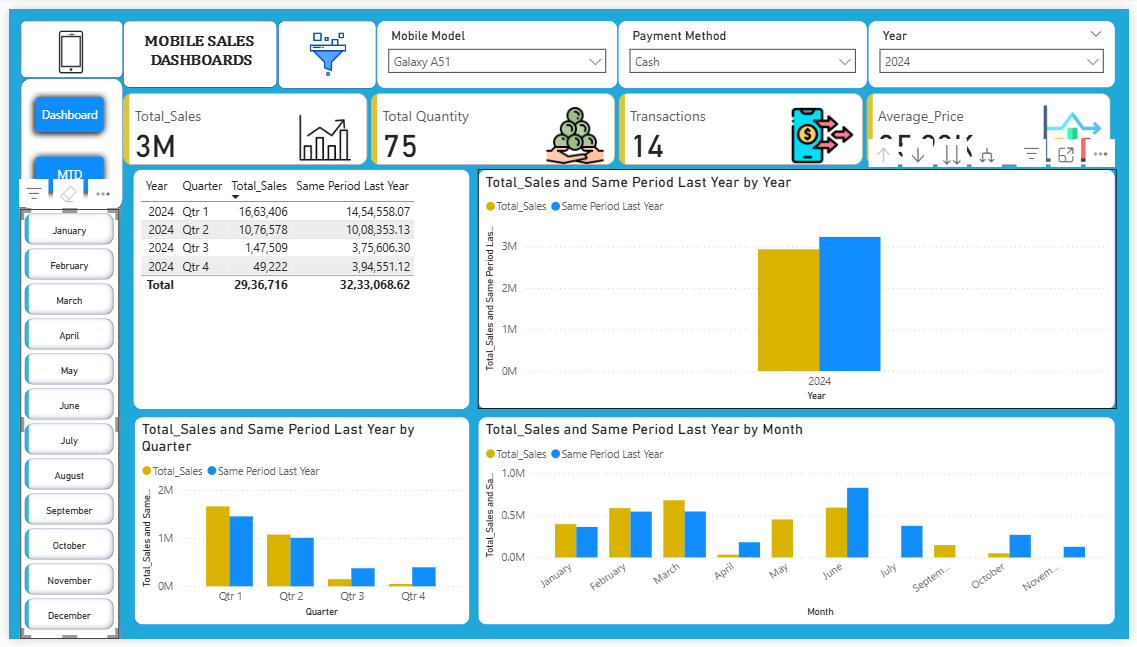

This screenshot's page, from the dashboard's own definition file:
{"tool":"powerbi","page":{"name":"SamePeriodLastYear","canvas":[1280,720],"ordinal":2},"visuals":[{"type":"shape","box":[12.3,12.3,117.8,66.3],"z":0},{"type":"image","box":[33.1,19.6,76.1,58.9],"z":1000},{"type":"shape","box":[12.3,78.5,117.8,150.9],"z":2000},{"type":"cardVisual","fields":{"Data":["Mobile Sales Data.Total_Sales","Mobile Sales Data.Total Quantity","Mobile Sales Data.Transactions","Mobile Sales Data.Average_Price"]},"box":[125.2,90.8,1139.9,92],"z":3000},{"type":"slicer","fields":{"Values":["Mobile Sales Data.Mobile Model"]},"box":[419.6,12.3,276.1,78.5],"z":4000},{"type":"slicer","fields":{"Values":["Mobile Sales Data.Payment Method"]},"box":[695.7,12.3,285.9,78.5],"z":5000},{"type":"slicer","fields":{"Values":["custom calender.Date.Variation.Date Hierarchy.Year"]},"box":[981.6,12.3,283.4,77.3],"z":6000},{"type":"shape","box":[306.8,12.3,112.9,78.5],"z":7000},{"type":"image","box":[308,20.9,111.7,61.4],"z":8000},{"type":"shape","box":[130.1,12.3,176.7,77.3],"z":9000},{"type":"textbox","box":[142.3,22.1,152.1,54],"z":10000},{"type":"advancedSlicerVisual","fields":{"Values":["custom calender.Date.Variation.Date Hierarchy.Month"]},"box":[12.3,229.2,112.9,490.8],"z":11000},{"type":"tableEx","fields":{"Values":["custom calender.Date.Variation.Date Hierarchy.Year","custom calender.Date.Variation.Date Hierarchy.Quarter","Mobile Sales Data.Total_Sales","Mobile Sales Data.Same Period Last Year"]},"box":[141.1,182.8,385.3,274.8],"z":12000},{"type":"clusteredColumnChart","fields":{"Category":["custom calender.Date.Variation.Date Hierarchy.Year","custom calender.Date.Variation.Date Hierarchy.Quarter"],"Y":["Mobile Sales Data.Total_Sales","Mobile Sales Data.Same Period Last Year"]},"box":[536.2,182.8,728.8,274.8],"z":13000},{"type":"clusteredColumnChart","fields":{"Y":["Mobile Sales Data.Total_Sales","Mobile Sales Data.Same Period Last Year"],"Category":["custom calender.Date.Variation.Date Hierarchy.Month"]},"box":[536.2,466.3,728.8,238],"z":14000},{"type":"clusteredColumnChart","fields":{"Category":["custom calender.Date.Variation.Date Hierarchy.Year","custom calender.Date.Variation.Date Hierarchy.Quarter"],"Y":["Mobile Sales Data.Total_Sales","Mobile Sales Data.Same Period Last Year"]},"box":[142.3,466.3,384.1,238],"z":15000},{"type":"pageNavigator","box":[679.8,204.9,600,50.3],"z":16000},{"type":"pageNavigator","box":[20.9,90.8,96.9,126.4],"z":17000}]}

Visuals, with their boxes in screenshot pixels (x1, y1, x2, y2):
shape: <region>17, 17, 120, 75</region>
image: <region>35, 23, 102, 75</region>
shape: <region>17, 75, 120, 207</region>
cardVisual - Mobile Sales Data.Total_Sales x Mobile Sales Data.Total Quantity: <region>116, 85, 1114, 166</region>
slicer - Mobile Sales Data.Mobile Model: <region>373, 17, 615, 85</region>
slicer - Mobile Sales Data.Payment Method: <region>615, 17, 866, 85</region>
slicer - custom calender.Date.Variation.Date Hierarchy.Year: <region>866, 17, 1114, 84</region>
shape: <region>275, 17, 374, 85</region>
image: <region>276, 24, 374, 78</region>
shape: <region>120, 17, 275, 84</region>
textbox: <region>131, 25, 264, 73</region>
advancedSlicerVisual - custom calender.Date.Variation.Date Hierarchy.Month: <region>17, 207, 116, 637</region>
tableEx - custom calender.Date.Variation.Date Hierarchy.Year x custom calender.Date.Variation.Date Hierarchy.Quarter: <region>130, 166, 467, 407</region>
clusteredColumnChart - custom calender.Date.Variation.Date Hierarchy.Year x custom calender.Date.Variation.Date Hierarchy.Quarter: <region>476, 166, 1114, 407</region>
clusteredColumnChart - Mobile Sales Data.Total_Sales x Mobile Sales Data.Same Period Last Year: <region>476, 414, 1114, 623</region>
clusteredColumnChart - custom calender.Date.Variation.Date Hierarchy.Year x custom calender.Date.Variation.Date Hierarchy.Quarter: <region>131, 414, 467, 623</region>
pageNavigator: <region>601, 185, 1127, 229</region>
pageNavigator: <region>24, 85, 109, 196</region>
